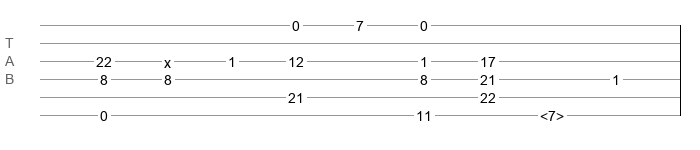0: (100, 108, 108, 118), (292, 18, 300, 28), (420, 18, 428, 28)
1: (228, 54, 236, 64), (420, 54, 428, 64), (612, 72, 620, 82)
11: (416, 108, 432, 118)
12: (288, 54, 304, 64)
17: (480, 54, 496, 64)
21: (288, 90, 304, 100), (480, 72, 496, 82)
22: (96, 54, 112, 64), (480, 90, 496, 100)
7: (356, 18, 364, 28)
8: (100, 72, 108, 82), (164, 72, 172, 82), (420, 72, 428, 82)
harmonic: (540, 108, 564, 118)
x: (164, 55, 171, 63)
